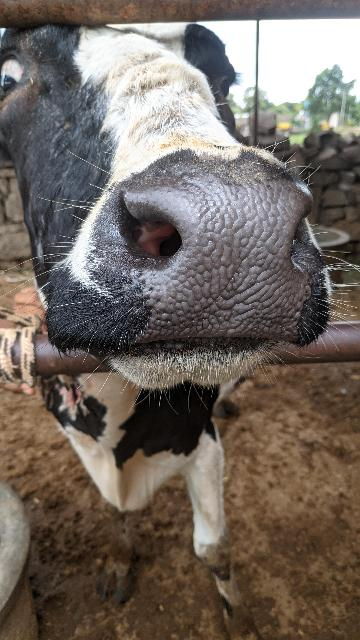Muzzle: (129, 180, 302, 330)
